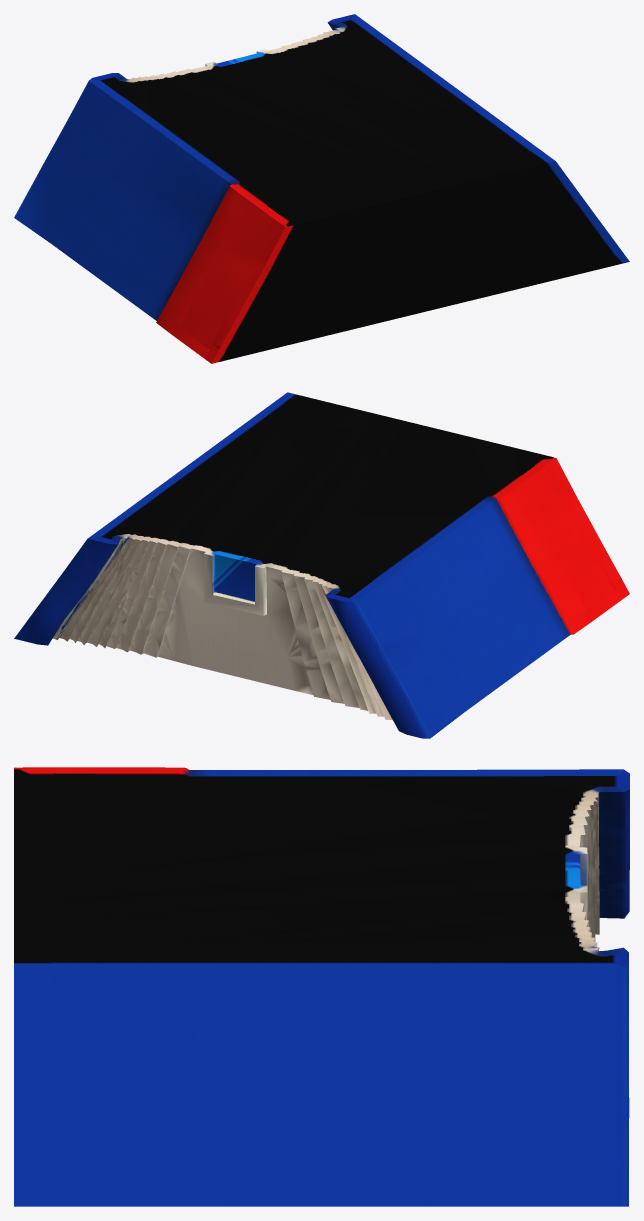
Rendered from 6-upper-walls-back.fbx.
3 views of the same model, one above another, from view 1: azimuth 30°, elevation 25°; view 2: azimuth 150°, elevation 25°; view 3: azimuth 270°, elevation 25° (orthographic). The views are drawn at different scales.
Parts seen in each view (by area): view 1: upper-walls-back; view 2: upper-walls-back; view 3: upper-walls-back.
Part boxes in pixels (box(x1,y1,x2,y2)): upper-walls-back: box(14, 14, 629, 363); upper-walls-back: box(14, 392, 629, 738); upper-walls-back: box(14, 767, 629, 1206).
Size of the model in its own units: 11636 by 3155 by 9691.
1 material, 1 textured.
